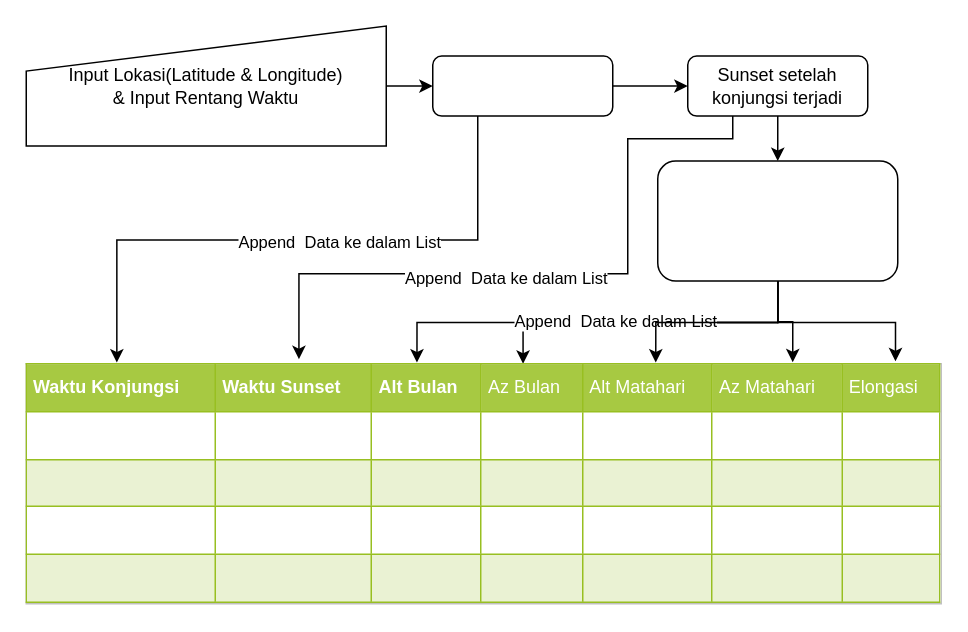
This 968x632 diagram has some shape labels left out. The centre of each missing label's shape, as x and y in pixels:
Mencari Posisi Bulan dan Matahari (Alt, Az, dan elongasi) pada saat Sunset: (x=777, y=220)
Waktu Terjadi Konjungsi: (x=522, y=85)
